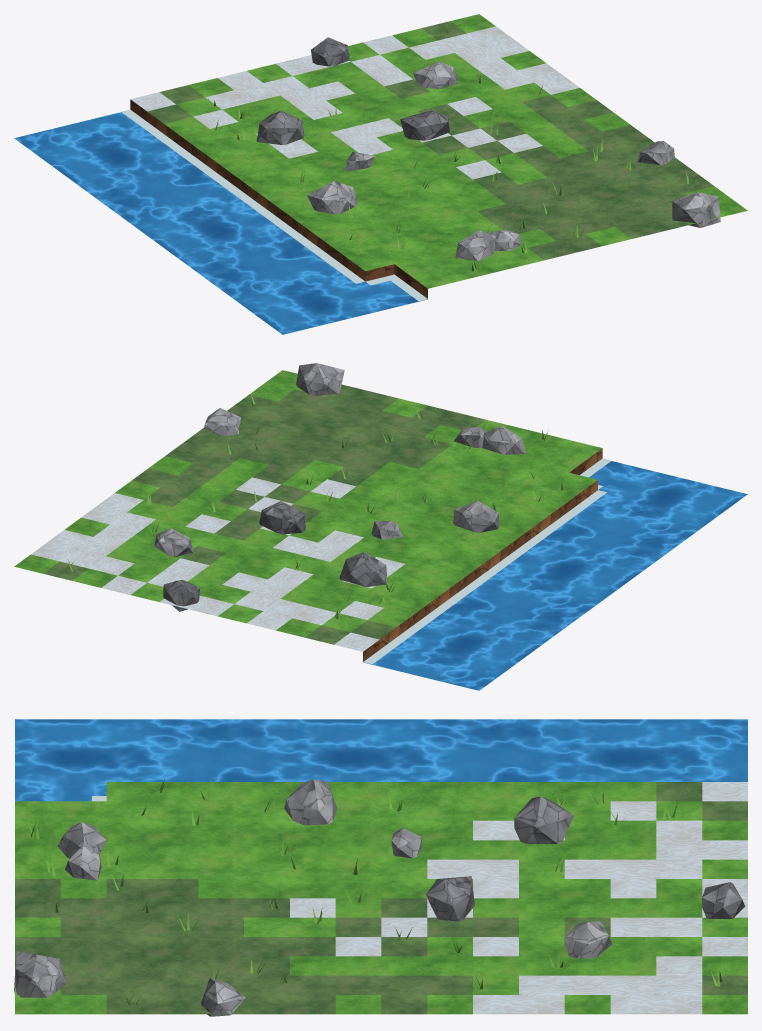
File: chunk_4_2.glb
3 views of the same model, one above another, from view 1: azimuth 30°, elevation 25°; view 2: azimuth 150°, elevation 25°; view 3: azimuth 270°, elevation 25° (orthographic). The views are drawn at different scales.
Visible parts, largest first — view 1: chunk_4_2; view 2: chunk_4_2; view 3: chunk_4_2.
Part boxes in pixels (box(x1,y1,x2,y2)): chunk_4_2: box(14, 14, 747, 334); chunk_4_2: box(14, 363, 747, 690); chunk_4_2: box(14, 719, 747, 1016).
Bounding box in the file's own units: 16.01 × 1.31 × 16.02.
10 materials, 8 textured.
